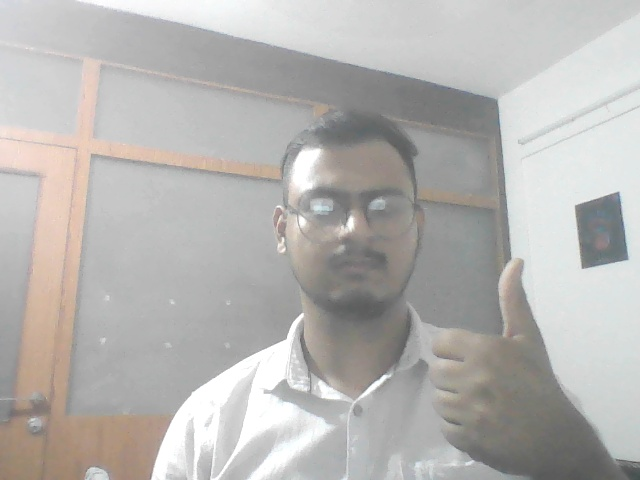Good: (422, 252, 557, 468)
